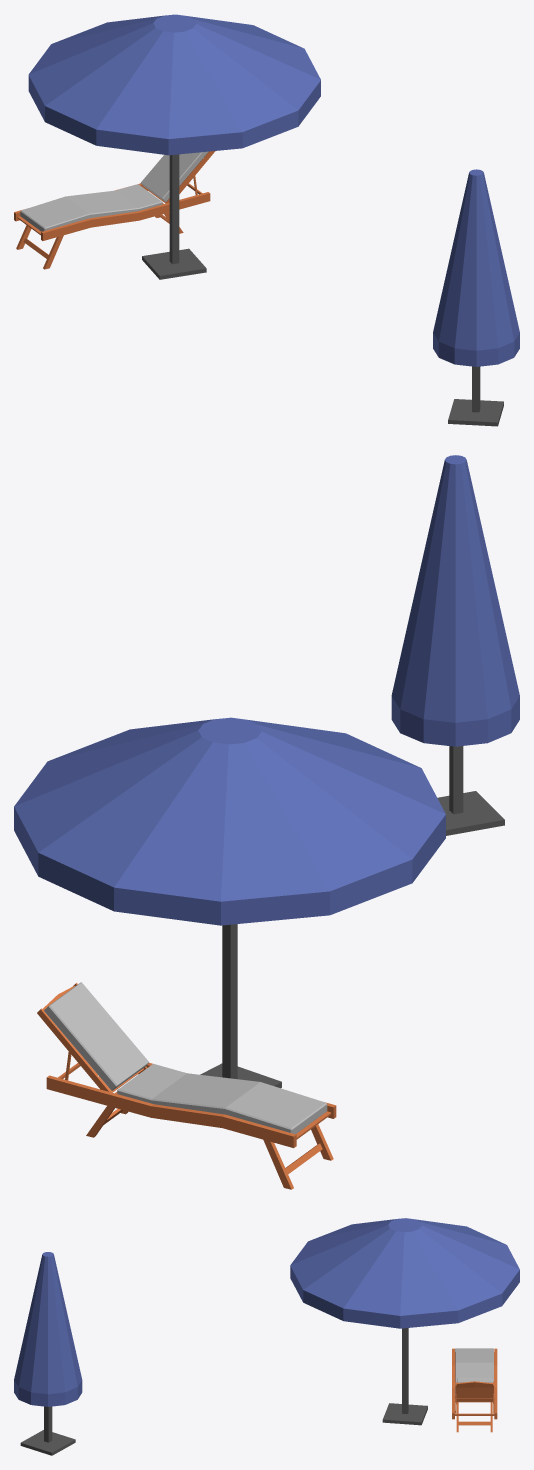
Rendered from lowpoly_sunbeds.fbx.
3 renders of one model, top to bottom at view 1: azimuth 30°, elevation 25°; view 2: azimuth 150°, elevation 25°; view 3: azimuth 270°, elevation 25°, orthographic. The views are drawn at different scales.
Parts seen in each view (by area): view 1: Umbrella.003, Umbrella.002, SunbedPillowed.001; view 2: Umbrella.003, Umbrella.002, SunbedPillowed.001; view 3: Umbrella.003, Umbrella.002, SunbedPillowed.001.
Boxes of the visible parts, <box> form: Umbrella.003: <box>28,14,320,279</box>; Umbrella.002: <box>433,169,519,426</box>; SunbedPillowed.001: <box>14,151,215,269</box>; Umbrella.003: <box>14,717,445,1088</box>; Umbrella.002: <box>391,455,519,835</box>; SunbedPillowed.001: <box>37,982,336,1189</box>; Umbrella.003: <box>290,1218,519,1425</box>; Umbrella.002: <box>14,1252,82,1455</box>; SunbedPillowed.001: <box>452,1348,497,1432</box>.
Bounding box in the file's own units: 188 × 172 × 413.
